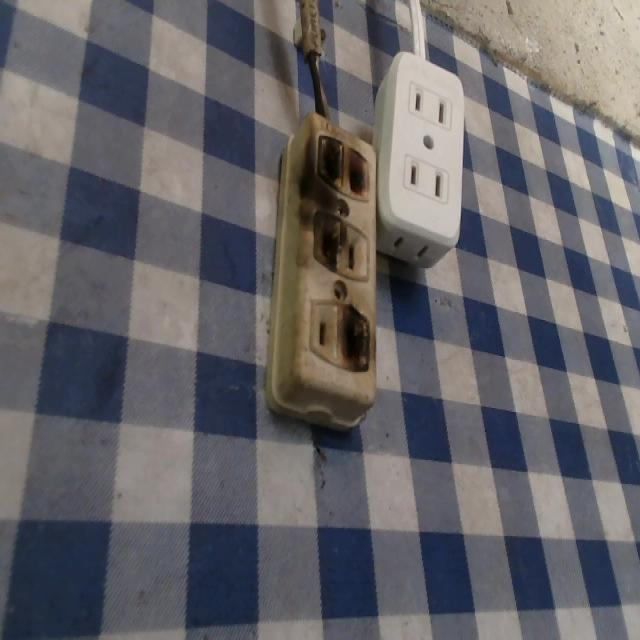-: (300, 125, 383, 211), (332, 294, 375, 378), (309, 200, 352, 279)
